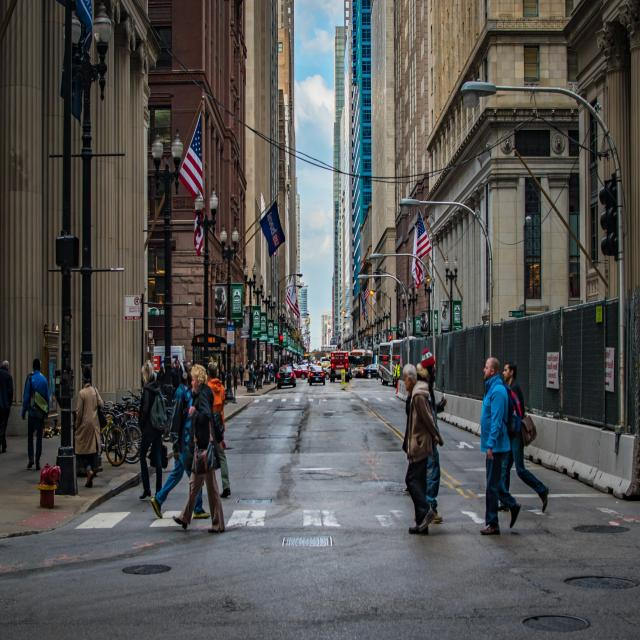adult: (174, 366, 228, 534), (479, 357, 523, 536), (496, 361, 548, 511), (401, 364, 442, 540), (134, 360, 172, 502), (20, 356, 52, 474), (75, 368, 104, 490)
